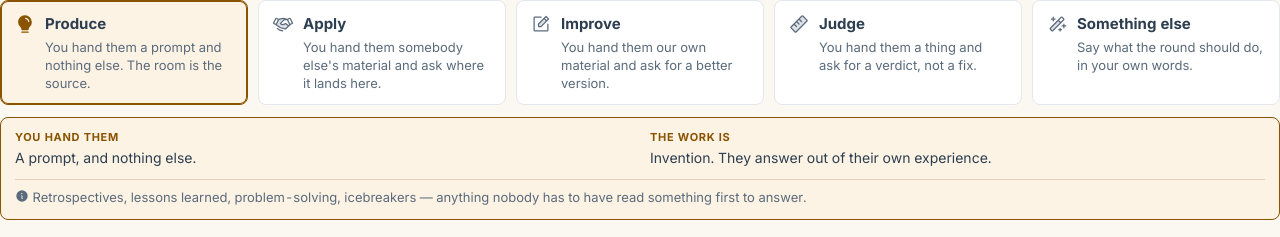
Test: choosing a kind changes what the screen says about it › selecting Apply shows the foreign-material framing; Improve shows ours
Click the radio button labelled "Apply" at (382, 53), box [258,0,506,105]
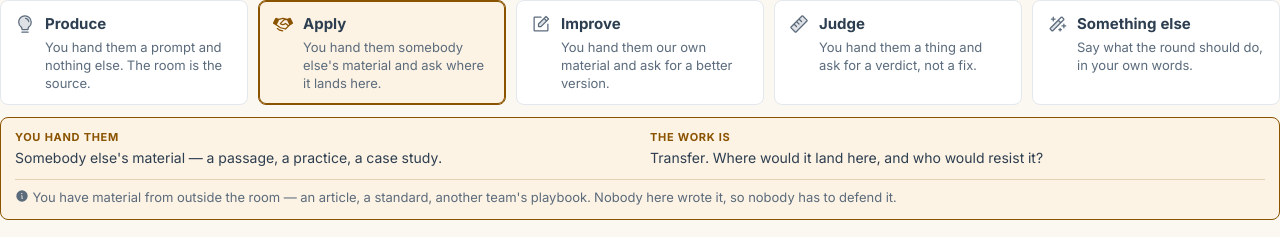
Expected: the text "Something we wrote — a policy, a runbook, a mission statement." is not shown
Expected: the text "Somebody else's material — a passage, a practice, a case study." is shown, [15,149,442,166]
Expected: the text "You have material from outside the room — an article, a standard, another team's playbook. Nobody here wrote it, so nobo" is shown, [32,188,896,204]
Click the radio button labelled "Improve" at (640, 53), box [516,0,764,105]
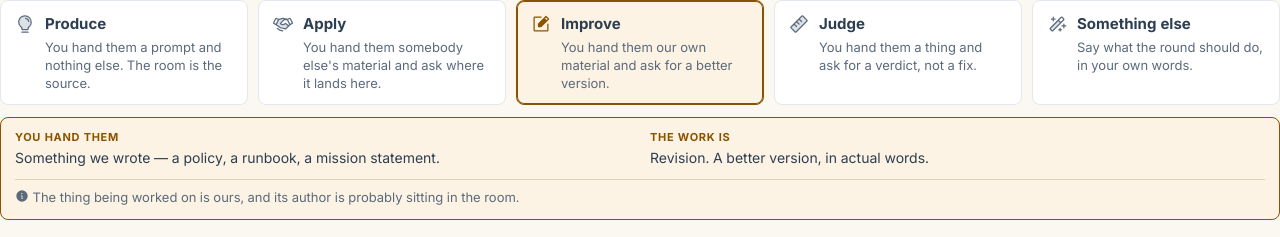
Expected: the text "Something we wrote — a policy, a runbook, a mission statement." is shown, [15,149,440,166]
Expected: the text "Somebody else's material — a passage, a practice, a case study." is gone
